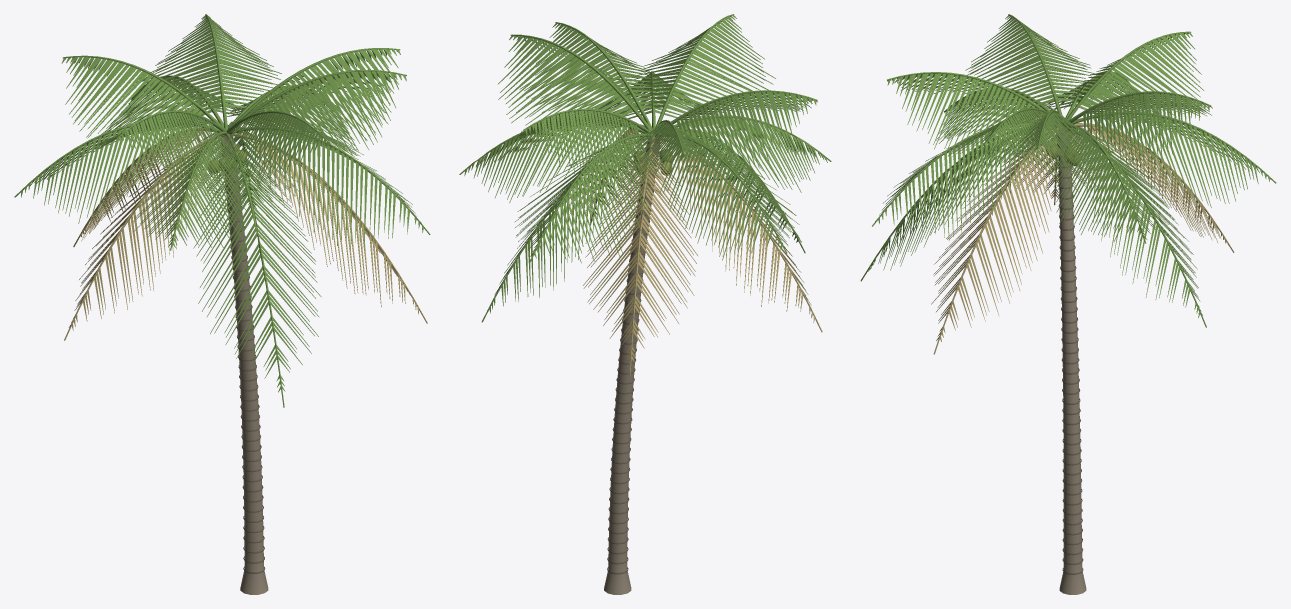
The model's file is city_palm_4.glb.
3 views of the same model, side by side, from view 1: azimuth 30°, elevation 25°; view 2: azimuth 150°, elevation 25°; view 3: azimuth 270°, elevation 25° (orthographic). The views are drawn at different scales.
Parts seen in each view (by area): view 1: Frond0; view 2: Frond0; view 3: Frond0.
Boxes of the visible parts, box(x1,y1,x2,y2) form: Frond0: box(14, 14, 430, 594); Frond0: box(459, 14, 831, 594); Frond0: box(860, 14, 1276, 594).
Size of the model in its own units: 7.52 by 11.38 by 8.46.
